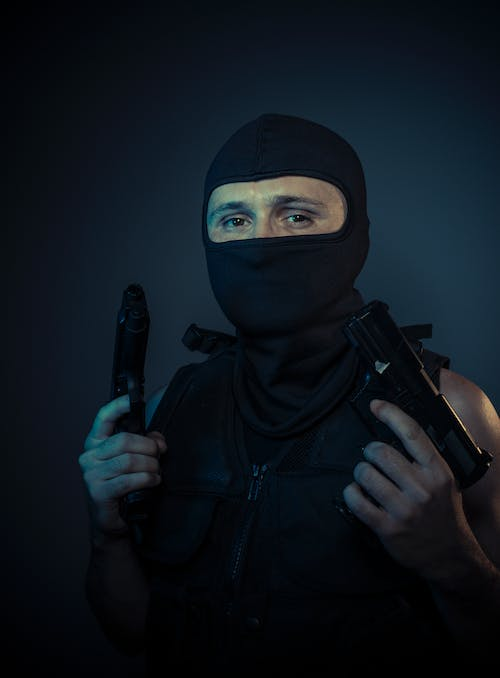gun: (338, 295, 493, 534), (102, 275, 156, 527)
